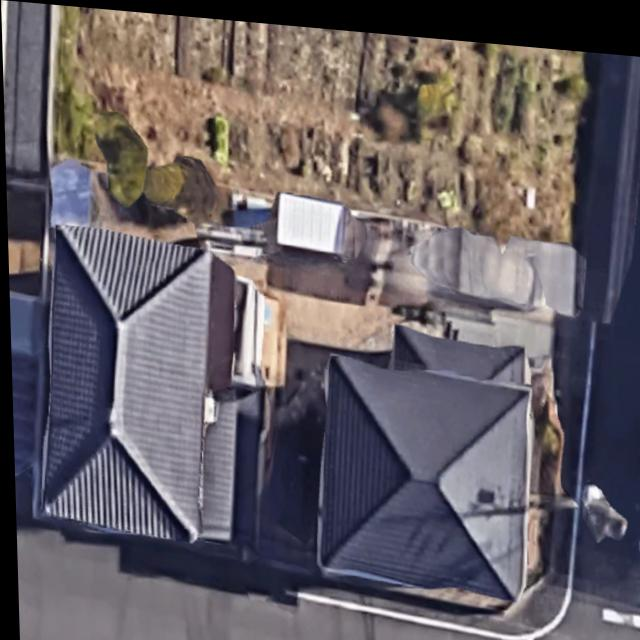Batiment: (38, 226, 258, 538), (314, 320, 527, 592)
